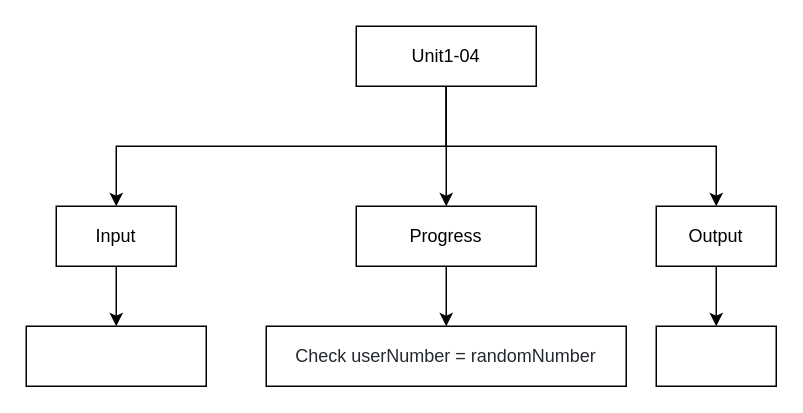
Some shapes in this 803 by 413 pixel diagram are drawn without their labels. The shapes that lost their labels are listed below. From the top down, each one's box as (x1, y1, x2, y2) in pixels, then its label:
(25, 325, 206, 386): Get sUserNumber
(655, 325, 776, 386): Print You guessed correctly!
